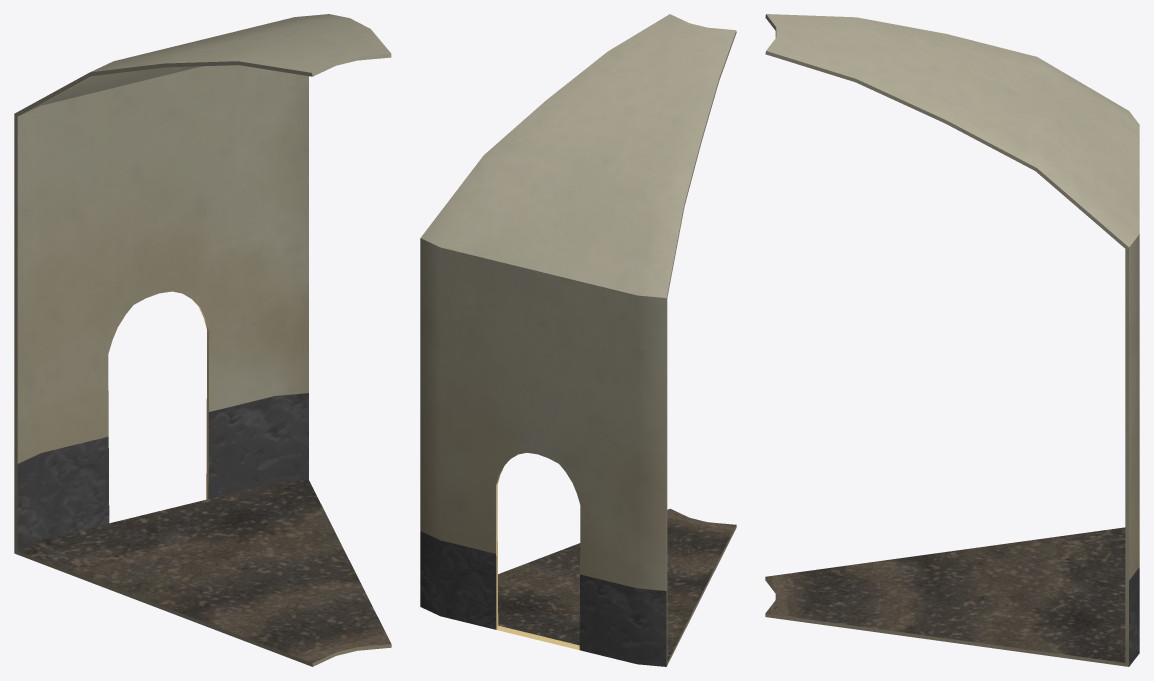
File: wallDoor.fbx
3 renders of one model, left to right at view 1: azimuth 30°, elevation 25°; view 2: azimuth 150°, elevation 25°; view 3: azimuth 270°, elevation 25°, orthographic. The views are drawn at different scales.
Parts seen in each view (by area): view 1: door_wall; view 2: door_wall; view 3: door_wall.
Part boxes in pixels (box(x1,y1,x2,y2)): door_wall: box(14, 14, 391, 666); door_wall: box(420, 14, 736, 666); door_wall: box(765, 14, 1139, 666).
Size of the model in its own units: 412 by 796 by 477.
1 material, 1 textured.
